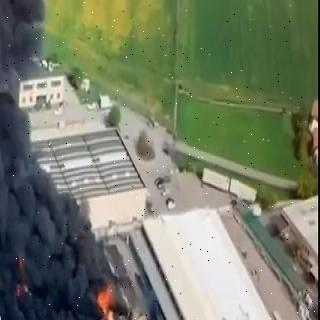smoke: (0, 3, 91, 238), (7, 249, 75, 320)
